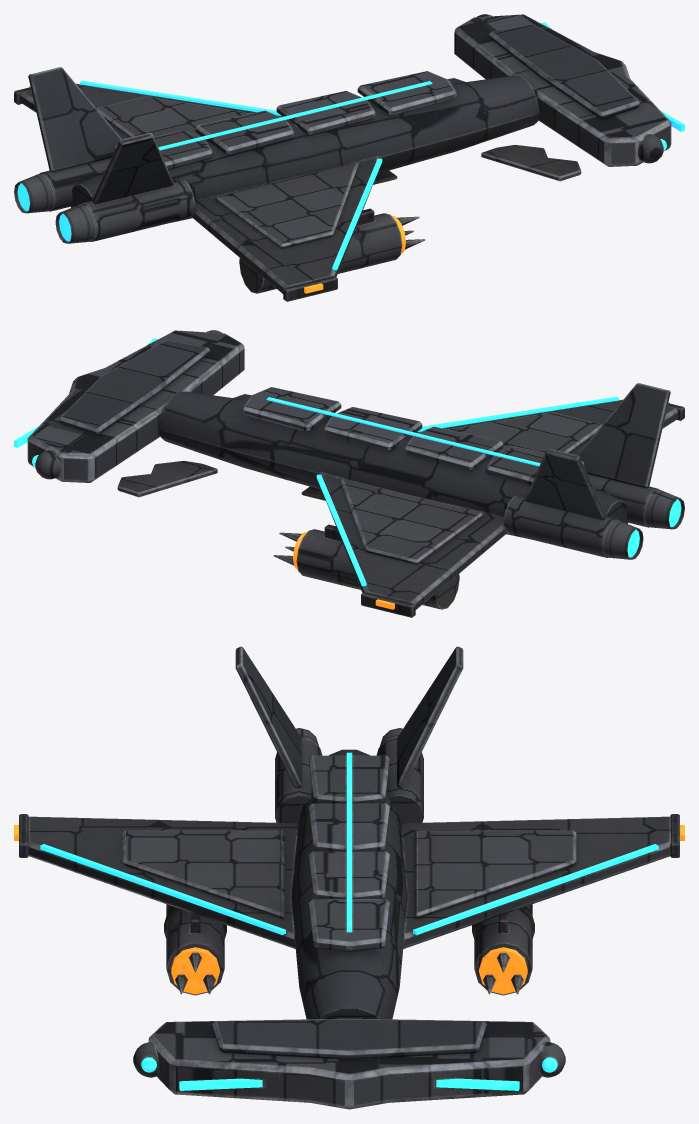
File: condor.glb
3 views of the same model, one above another, from view 1: azimuth 30°, elevation 25°; view 2: azimuth 150°, elevation 25°; view 3: azimuth 270°, elevation 25° (orthographic). The views are drawn at different scales.
Visible parts, largest first — view 1: TerranHammerhead; view 2: TerranHammerhead; view 3: TerranHammerhead.
Boxes of the visible parts, x1,y1,x2,y2 form: TerranHammerhead: [14, 14, 684, 301]; TerranHammerhead: [14, 330, 684, 617]; TerranHammerhead: [14, 646, 684, 1109].
Size of the model in its own units: 10.03 by 2.76 by 8.28.
1 material, 1 textured.
